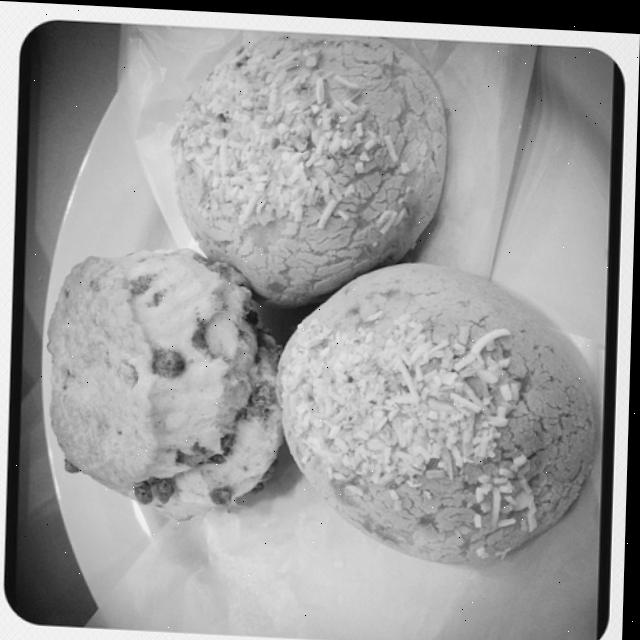面包点心: (29, 24, 614, 612)
